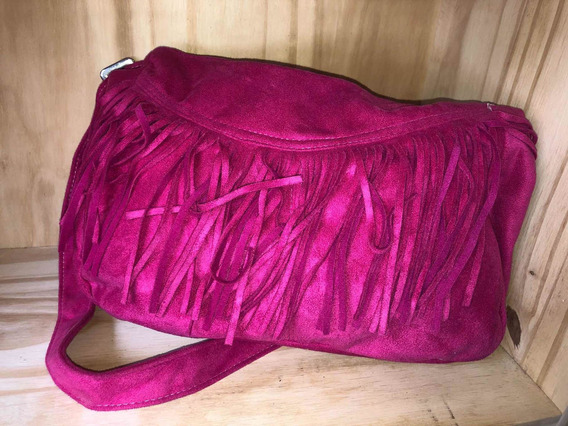cartera: (53, 46, 537, 365)
